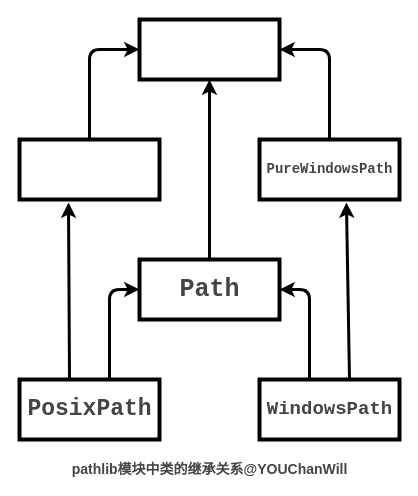
This 418x496 diagram has some shape labels left out. The shapes that lost their labels are listed below. From the top down, each one's box as (x1, y1, x2, y2) in pixels, then its label:
(137, 17, 281, 81): PurePath
(17, 137, 161, 201): PurePosixPath
